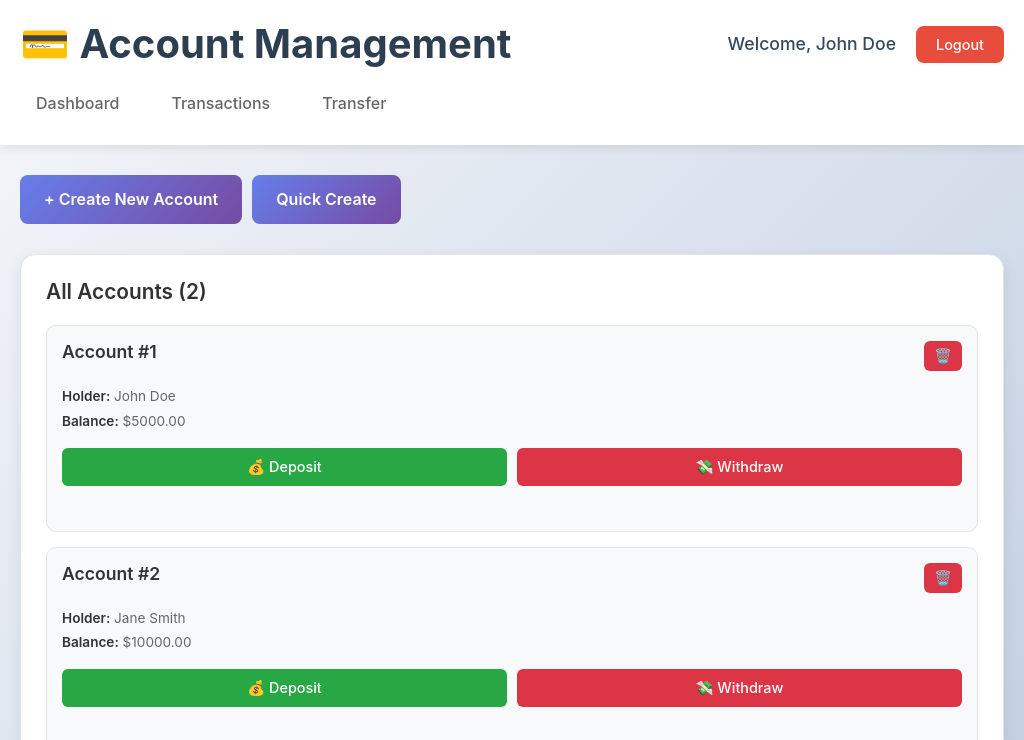
Test: AccountDetails Component › handles withdrawal error
Click the 1st button "💸 Withdraw": (740,467) top-left (517, 448), bottom-right (962, 486)
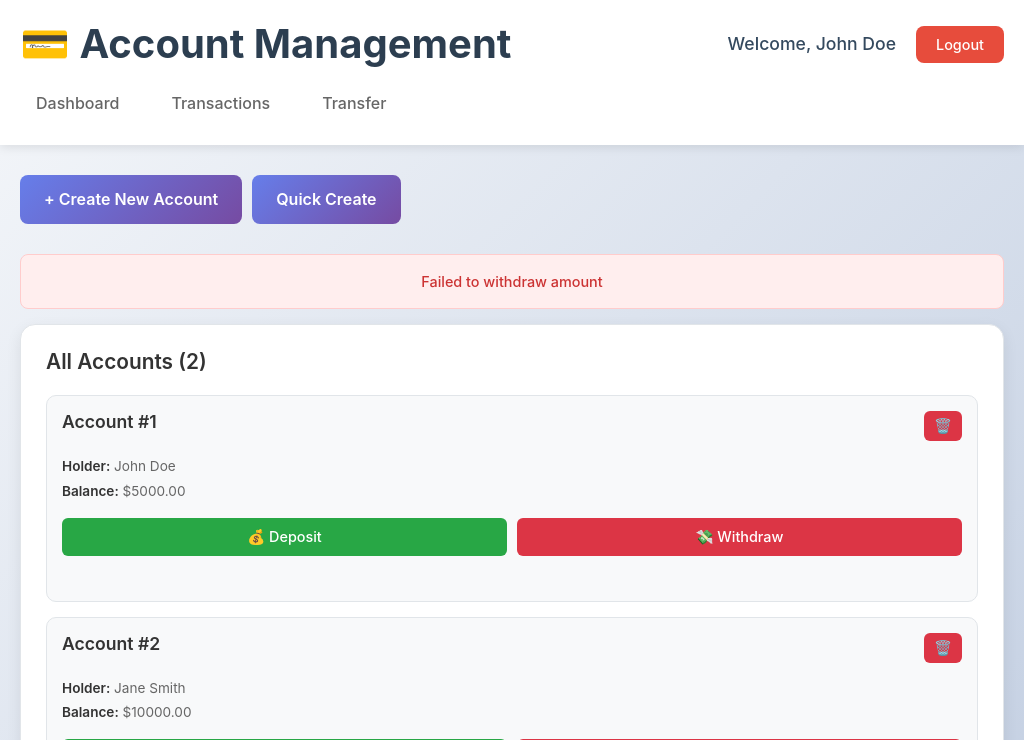
Expected: the text "Failed to withdraw amount" is shown, top-left (20, 254), bottom-right (1004, 309)
